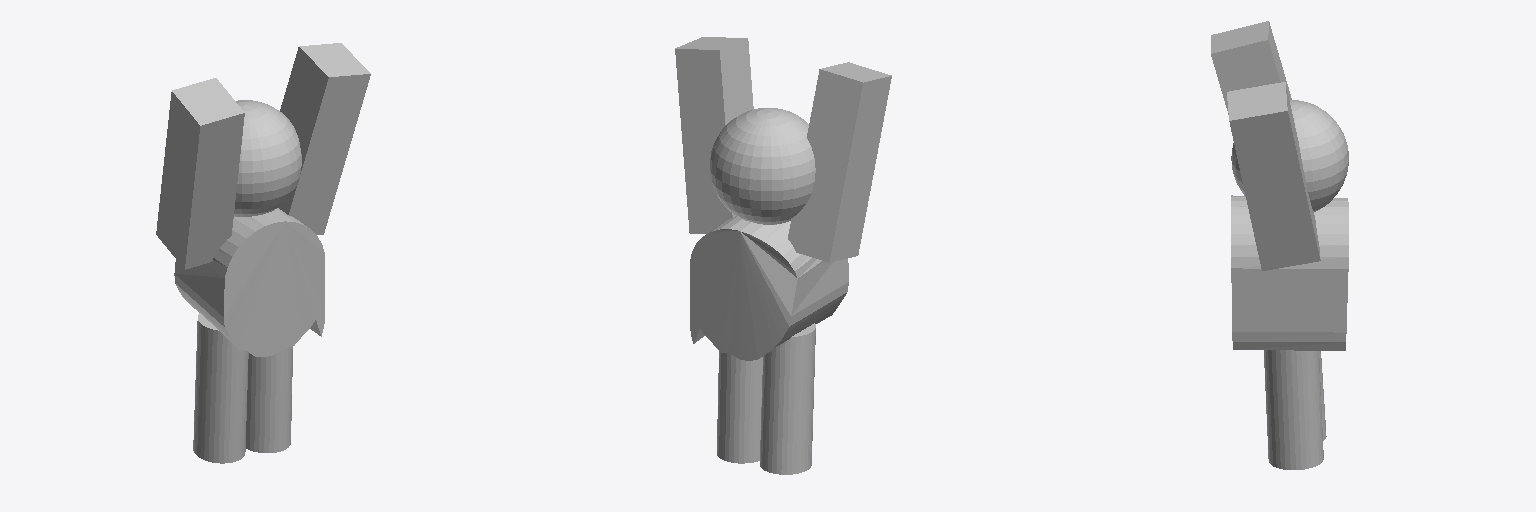
File: Figurine165.obj
3 views of the same model, side by side, from view 1: azimuth 30°, elevation 25°; view 2: azimuth 150°, elevation 25°; view 3: azimuth 270°, elevation 25° (orthographic).
Parts seen in each view (by area): view 1: Cylinder; view 2: Cylinder; view 3: Cylinder.
Part boxes in pixels (x1,y1,x2,y2): Cylinder: (156, 43, 370, 463); Cylinder: (675, 37, 891, 474); Cylinder: (1211, 21, 1348, 469).
Bounding box in the file's own units: 3.52 × 7.35 × 2.35.